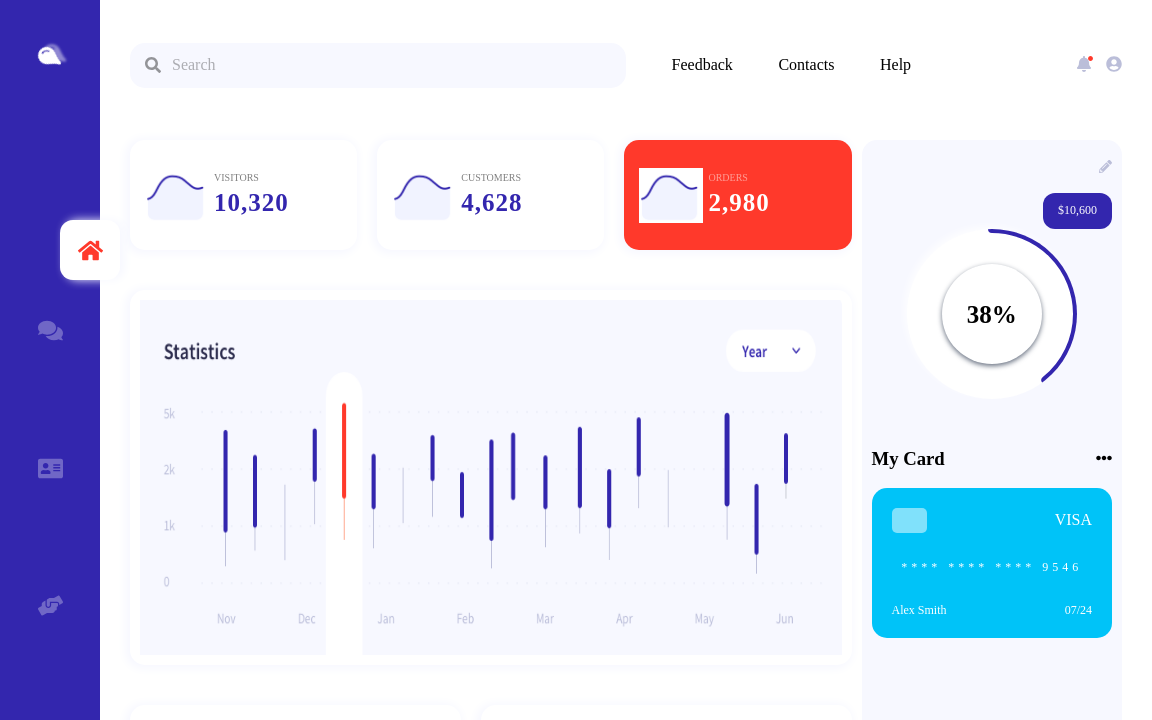
App › I can navigate to contacts page from the aside component
Click the link with test id "svg-address". click: x=50, y=473
box: [38,465,62,482]
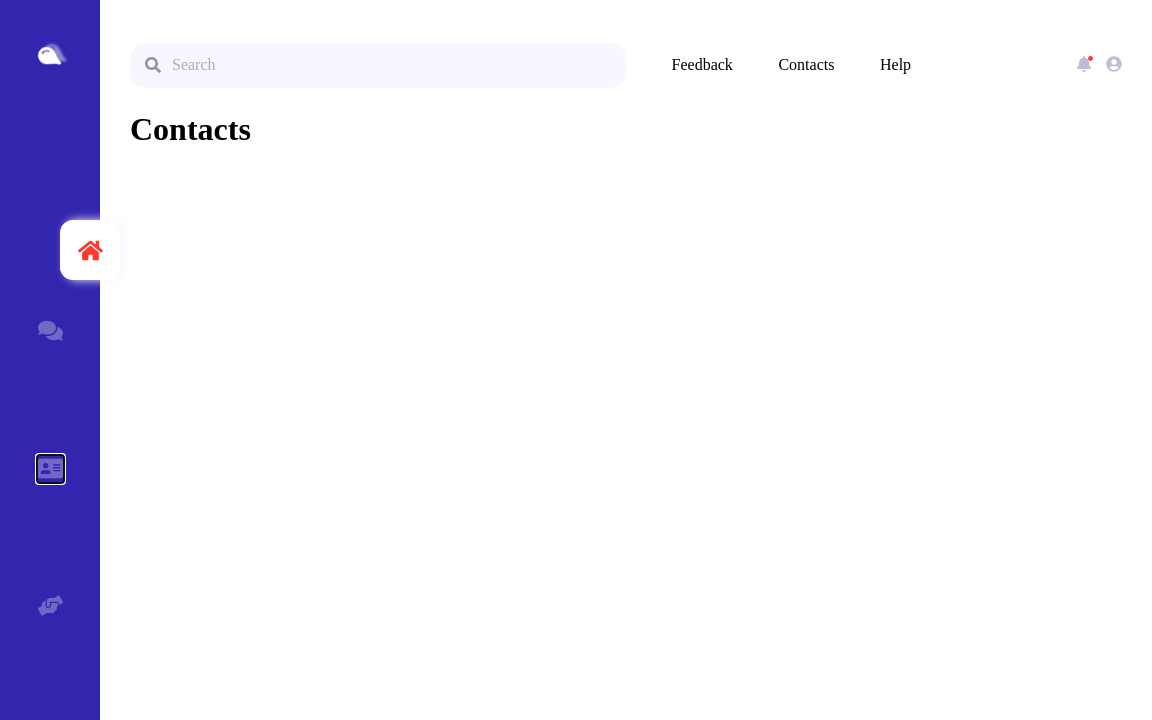
Expected: the heading "Contacts" is shown, [130,111,251,147]
